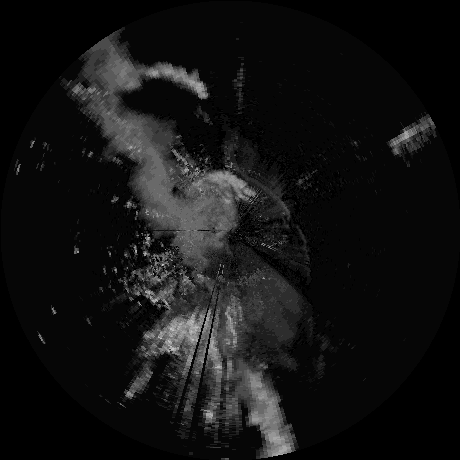frontgust: (233, 167, 291, 219)
